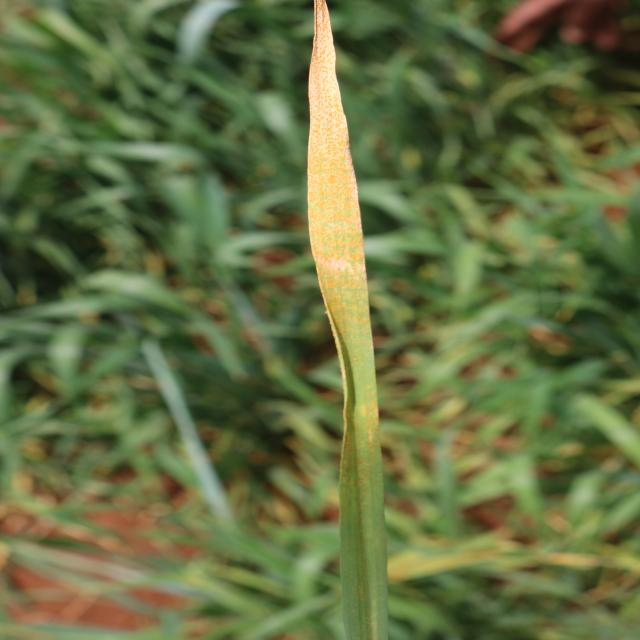Stripe Rust: (308, 0, 369, 325)
